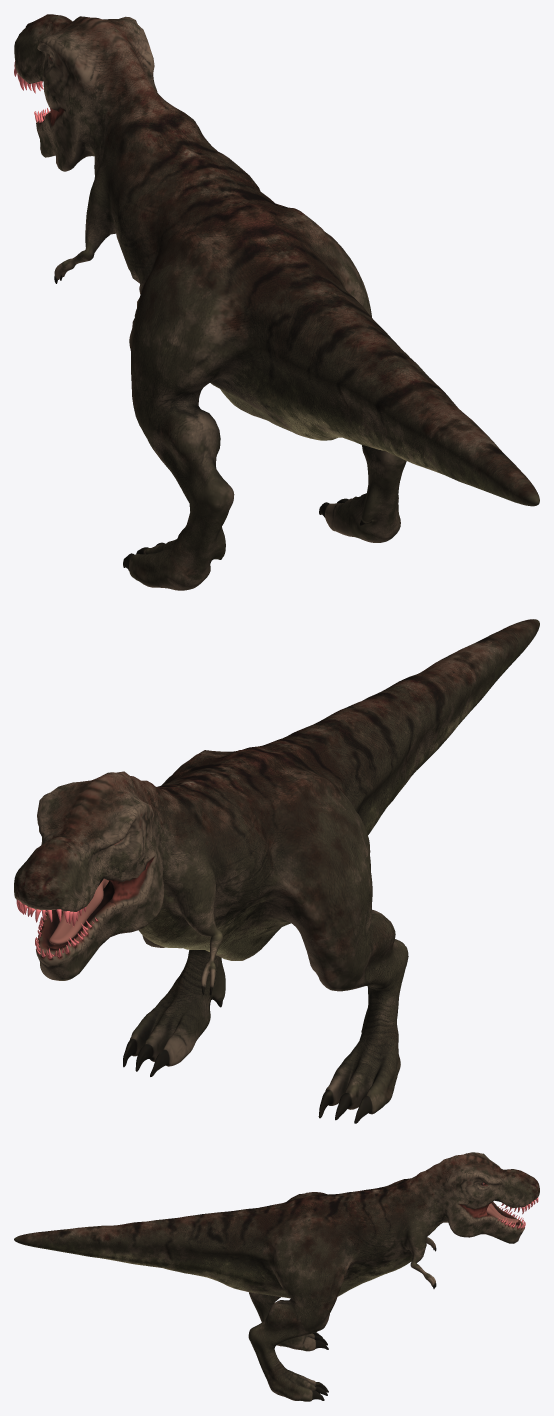
Rendered from trex.obj.
3 views of the same model, one above another, from view 1: azimuth 30°, elevation 25°; view 2: azimuth 150°, elevation 25°; view 3: azimuth 270°, elevation 25° (orthographic). The views are drawn at different scales.
Visible parts, largest first — view 1: tyrannosaurus_rex; view 2: tyrannosaurus_rex; view 3: tyrannosaurus_rex.
Boxes of the visible parts, x1,y1,x2,y2 form: tyrannosaurus_rex: (14, 14, 539, 590); tyrannosaurus_rex: (14, 619, 539, 1123); tyrannosaurus_rex: (14, 1152, 539, 1401).
Bounding box in the file's own units: 13.01 × 20.64 × 45.45.
Materials: 6 (1 with a texture image).
